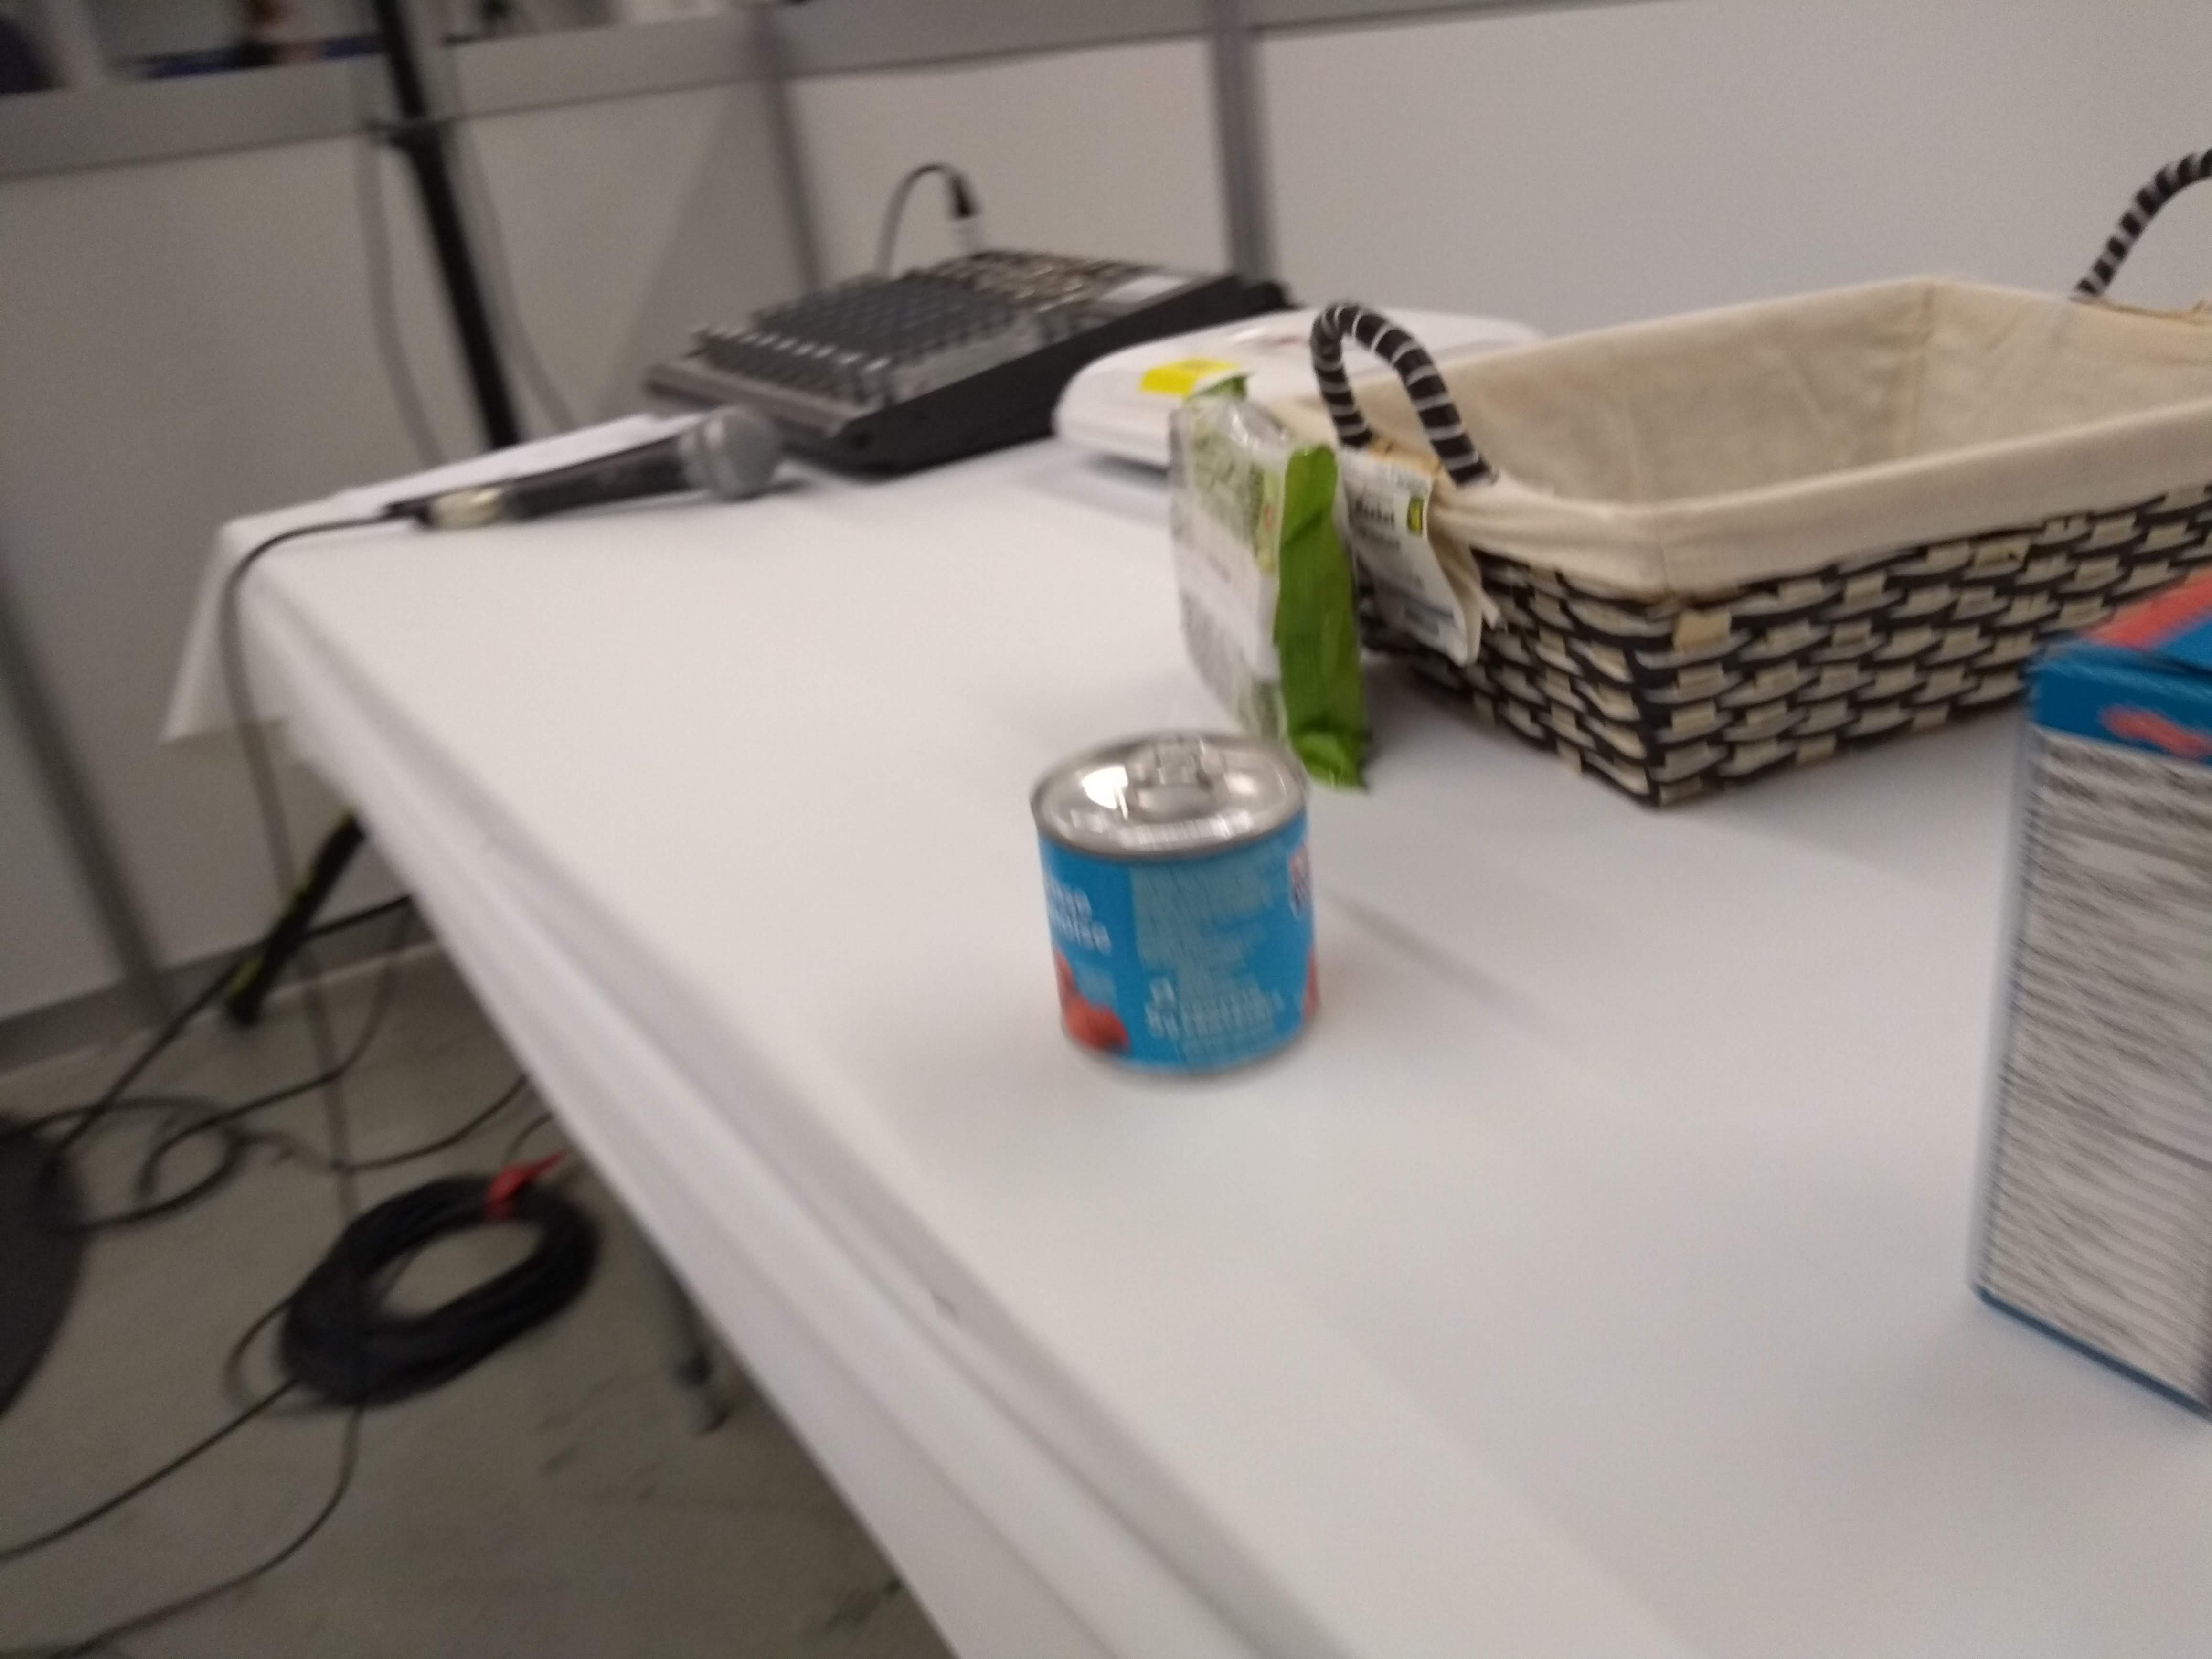basket: (1308, 138, 2212, 814)
noodles: (1150, 390, 1395, 810)
sausages: (1019, 708, 1339, 1108)
